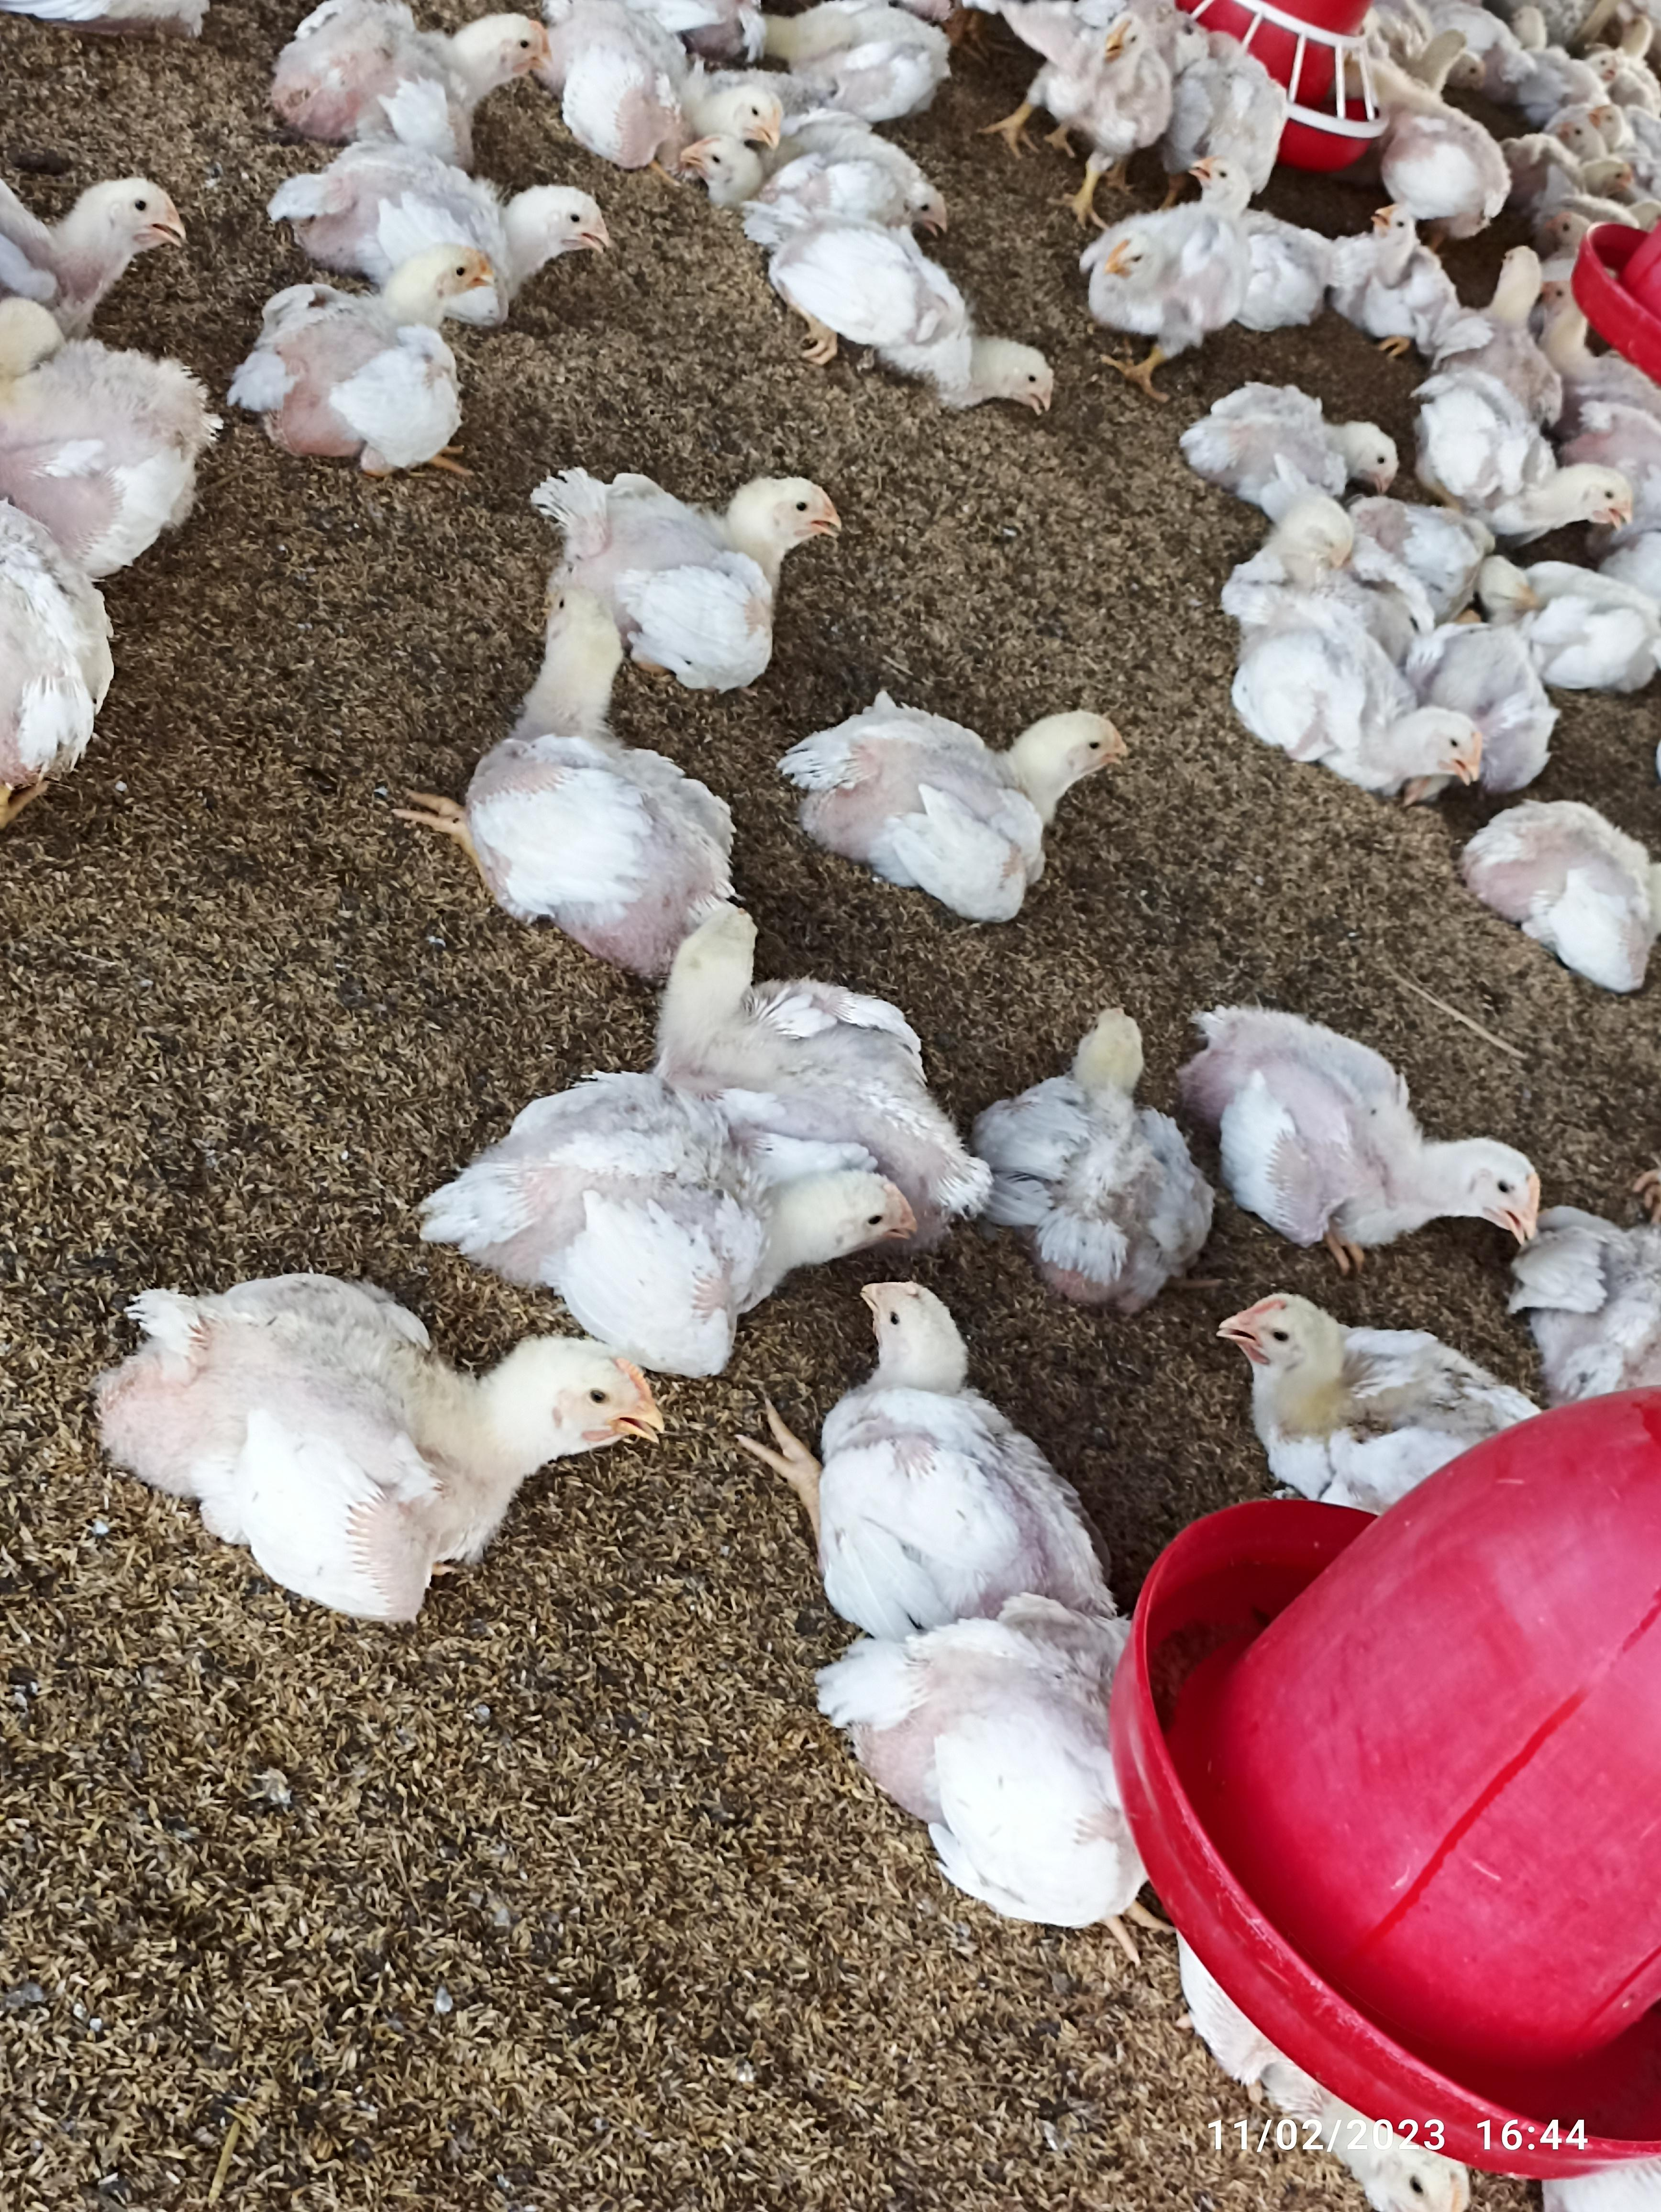Pollos: (110, 1265, 619, 1612), (436, 1069, 916, 1291), (1202, 998, 1546, 1247), (839, 1280, 1097, 1598), (532, 448, 839, 675), (801, 698, 1132, 877), (1010, 980, 1190, 1305), (1227, 1280, 1509, 1485), (1230, 593, 1490, 813), (251, 246, 508, 452), (771, 236, 1031, 427), (265, 0, 541, 166), (1090, 202, 1303, 347), (1195, 379, 1401, 485)
